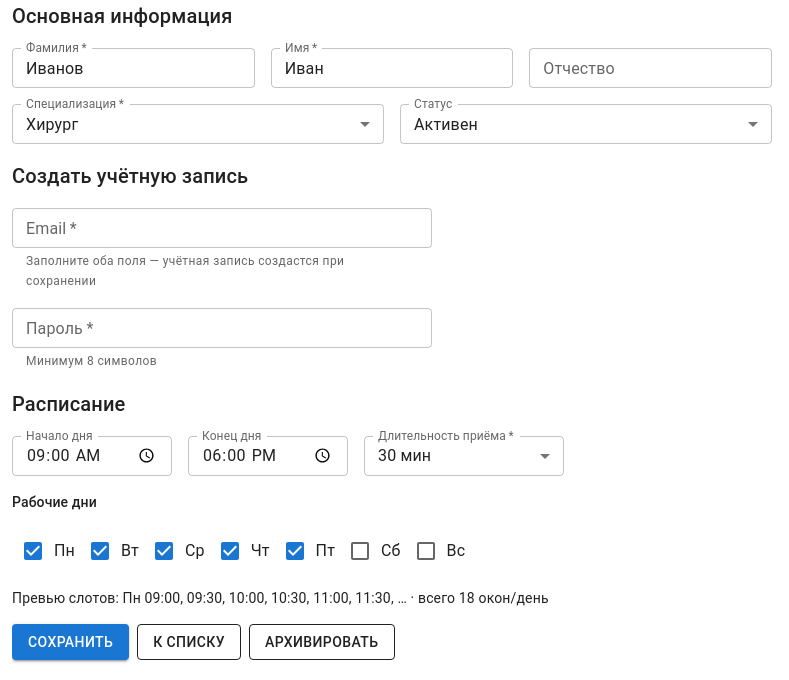
Scenario: DoctorForm edit: email учётной записи (3.2) › врач без учётной записи: занятый email при привязке (409) → ошибка под полем
Type "busy@test.mp" into the field labelled "Email *".
click(222, 228); type("busy@test.mp")  # box [12,208,432,248]
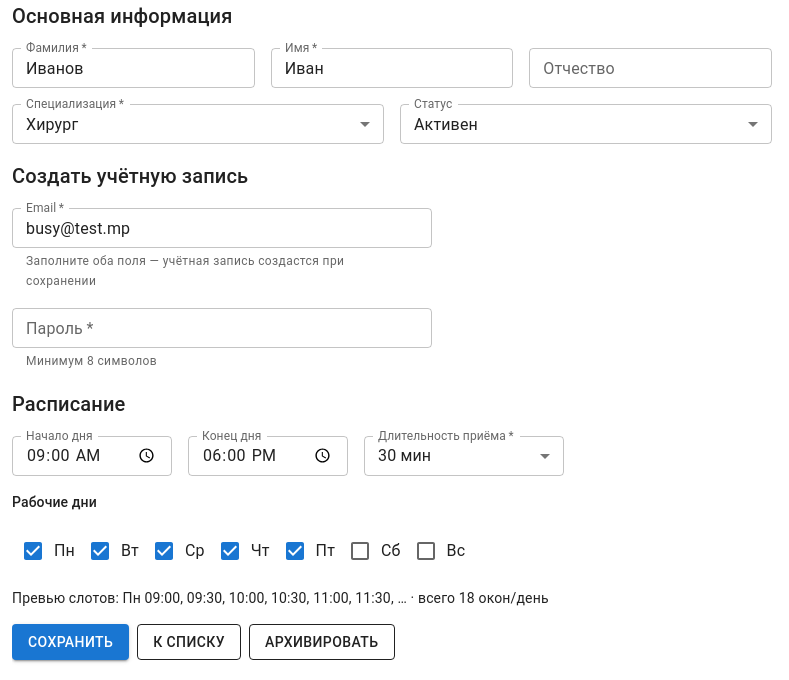
Type "Password123!" into the password field labelled "Пароль *".
click(222, 328); type("Password123!")  # box [12,308,432,348]
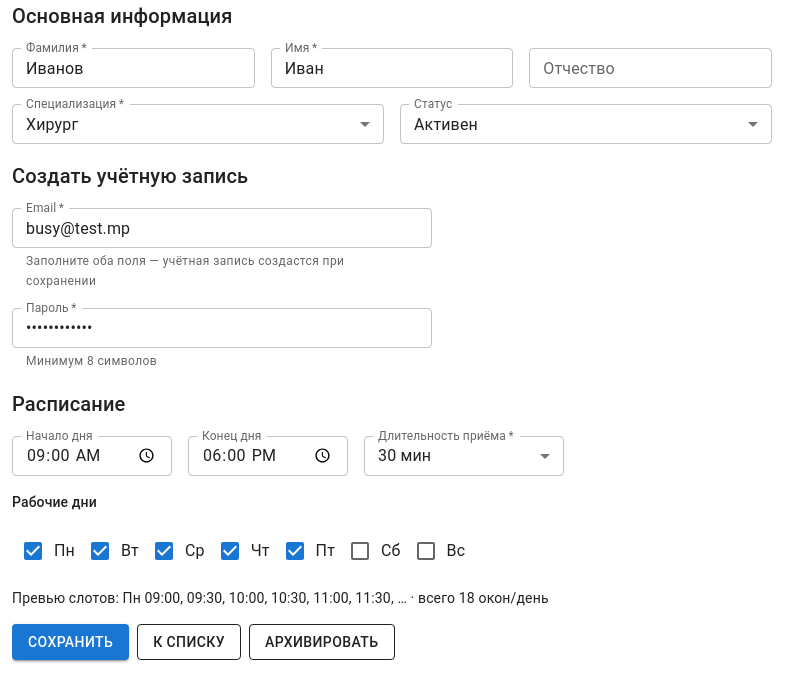
Click the button "Сохранить".
click(71, 642)  # box [12,624,129,660]
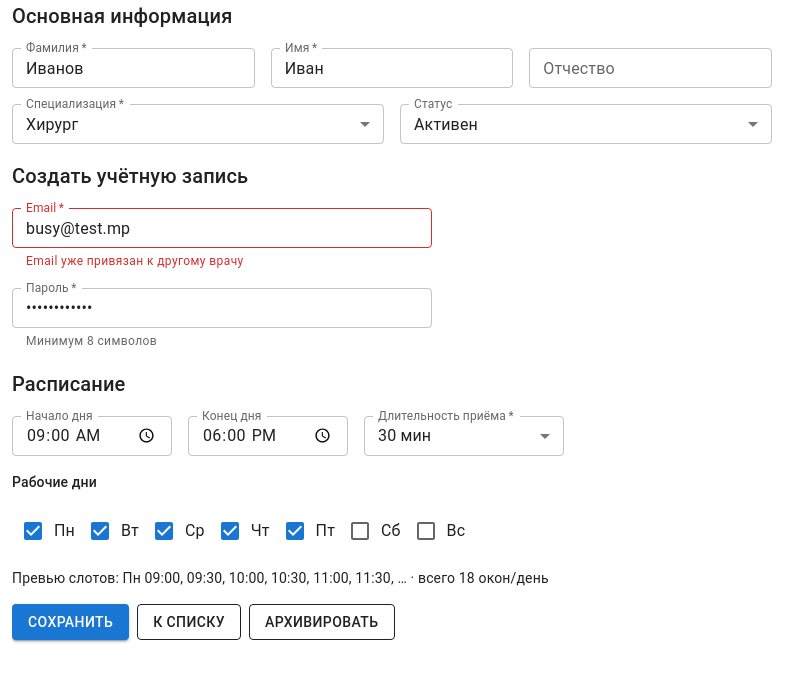
Expected: the text "Email уже привязан к другому врачу" is shown, [26,254,244,268]
